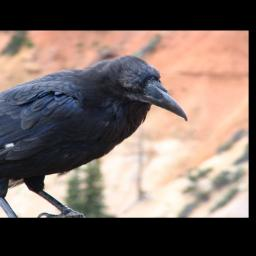Crow: (0, 51, 189, 217)
